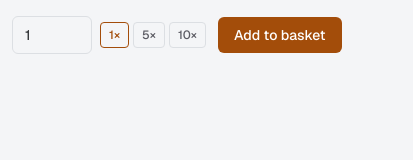
Test: AddToBasketButton — no variables, no gifting › shows the error message and re-enables the button when the action fails
Click the button "Add to basket" at (280,35), box [218,17,342,53]
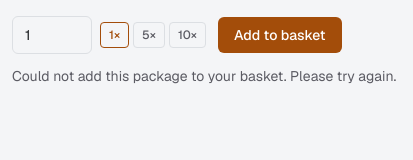
expect the text "Could not add this package to your basket. Please try again." is shown: met, box [12,67,396,85]
